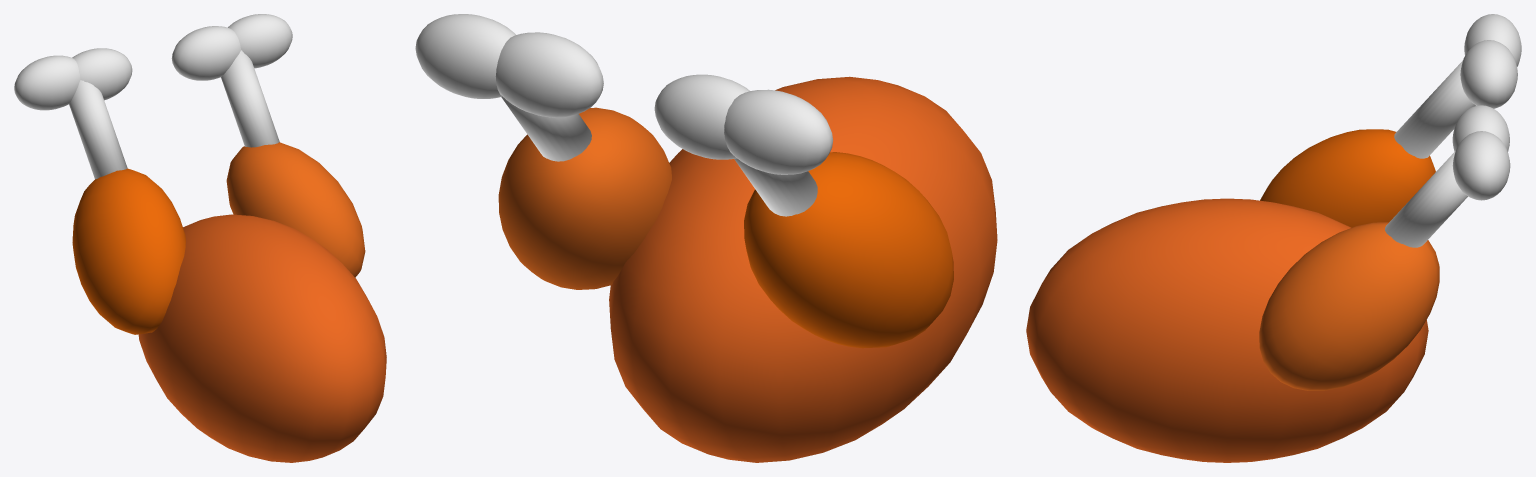
File: Chicken.fbx
3 views of the same model, side by side, from view 1: azimuth 30°, elevation 25°; view 2: azimuth 150°, elevation 25°; view 3: azimuth 270°, elevation 25° (orthographic). The views are drawn at different scales.
Visible parts, largest first — view 1: Sphere.001, Sphere.005, Sphere.003; view 2: Sphere.001, Sphere.005, Sphere.003; view 3: Sphere.001, Sphere.005, Sphere.003.
Part boxes in pixels (box(x1,y1,x2,y2)): Sphere.001: box(72, 142, 386, 462); Sphere.005: box(171, 14, 292, 147); Sphere.003: box(14, 48, 132, 179); Sphere.001: box(498, 76, 997, 462); Sphere.005: box(415, 14, 603, 161); Sphere.003: box(654, 74, 833, 216); Sphere.001: box(1026, 129, 1439, 462); Sphere.005: box(1385, 105, 1510, 247); Sphere.003: box(1394, 14, 1521, 158).
Bounding box in the file's own units: 217 × 250 × 297.
